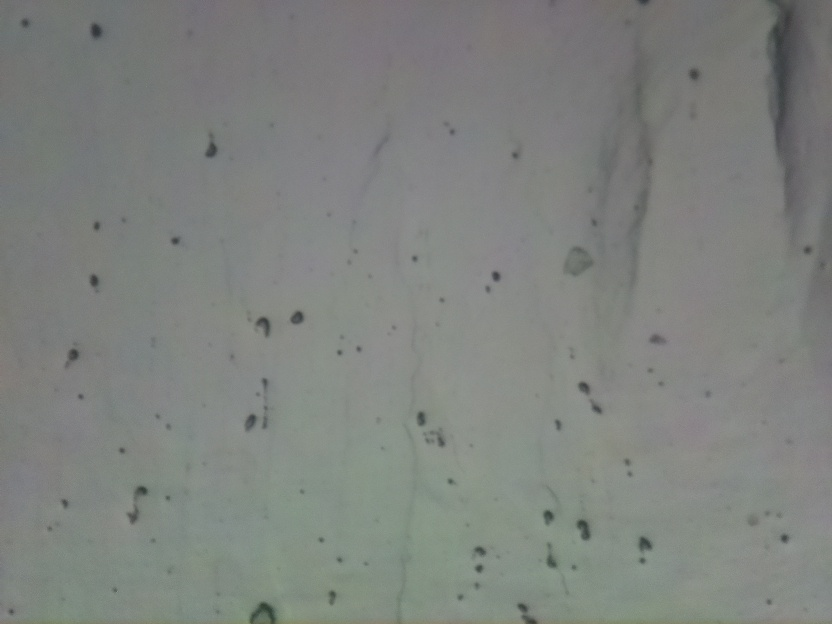crack: (760, 0, 804, 158)
